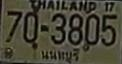0: (22, 11, 38, 43), (84, 14, 99, 46)
3: (50, 12, 66, 44)
5: (101, 14, 116, 46)
7: (6, 10, 21, 42)
8: (67, 13, 82, 45)
NBI: (40, 47, 80, 64)
